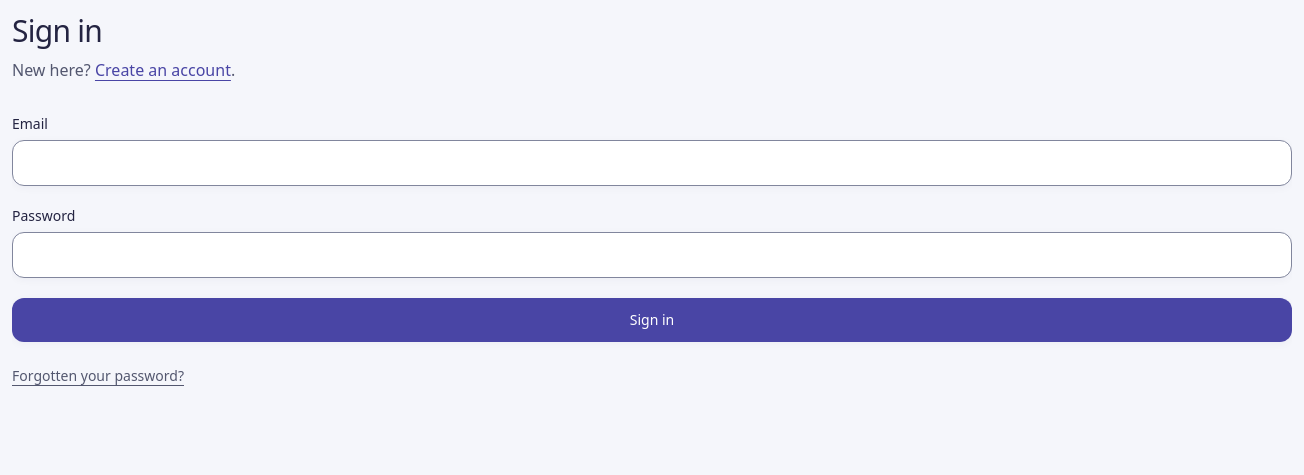
Test: what the page says when sign-in is refused › shows the API's wording, exactly as the API worded it
Type "learner@example.test" into the field labelled "Email".
click(652, 162); type("learner@example.test")  # box [12, 140, 1292, 186]
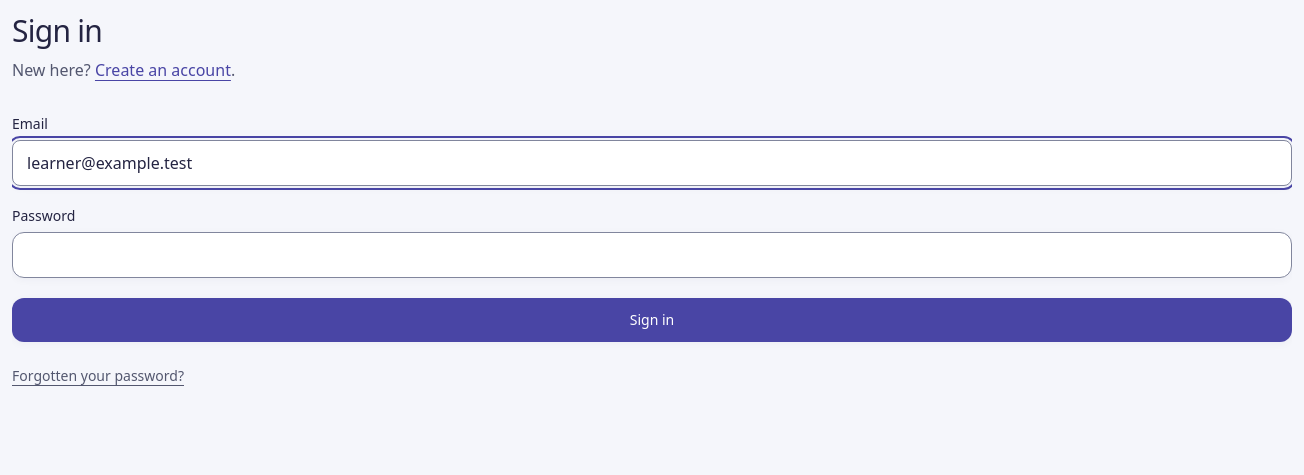
Type "correct horse" into the password field labelled "Password".
click(652, 254); type("correct horse")  # box [12, 232, 1292, 278]
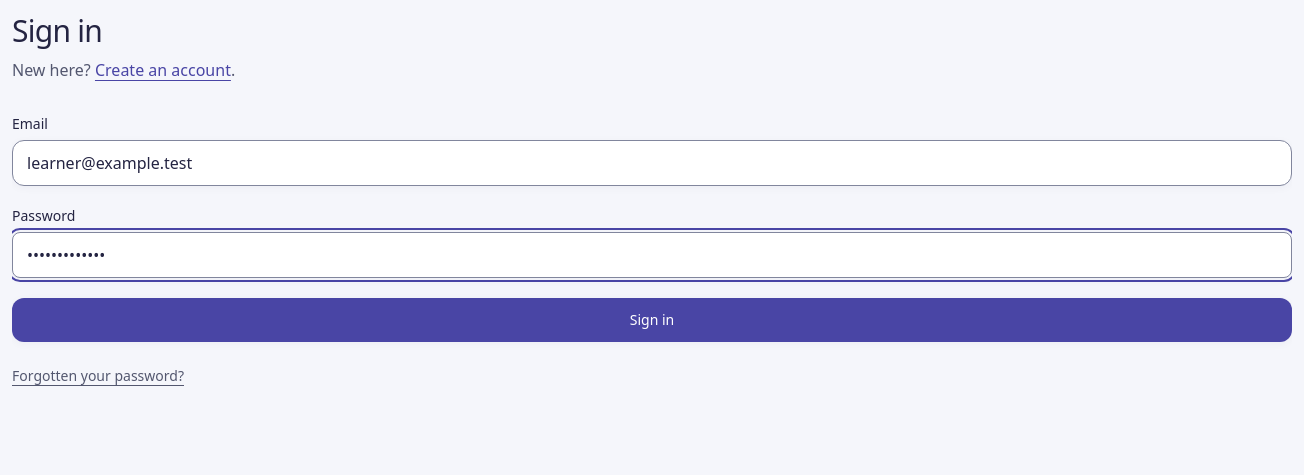
Click the button "Sign in".
click(652, 320)  # box [12, 298, 1292, 342]
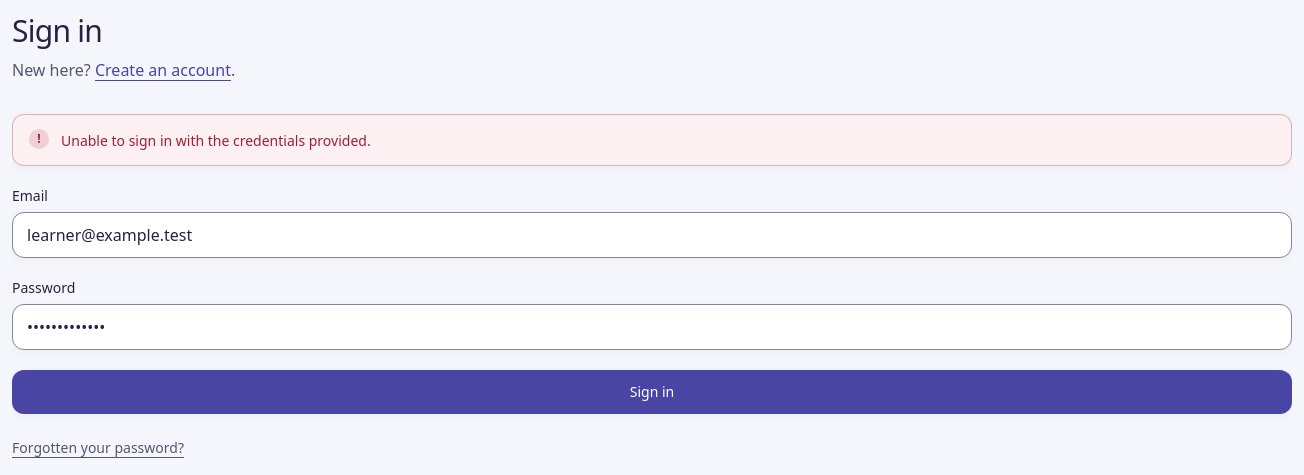
Result: the text "Unable to sign in with the credentials provided." is shown at [61, 130, 371, 150]
